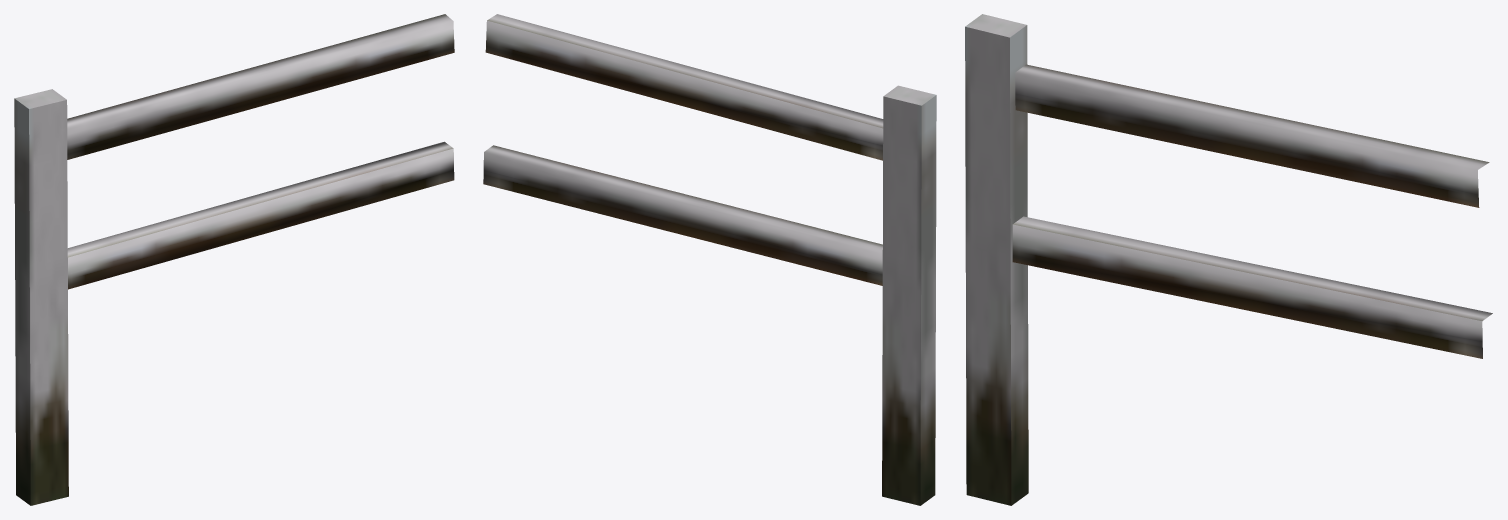
The model's file is general_obj_fence04.glb.
The picture shows the model from 3 angles, left to right: view 1: azimuth 30°, elevation 25°; view 2: azimuth 150°, elevation 25°; view 3: azimuth 330°, elevation 25°; orthographic projection. The views are drawn at different scales.
Parts seen in each view (by area): view 1: Sphere01; view 2: Sphere01; view 3: Sphere01.
Boxes of the visible parts, x1,y1,x2,y2 form: Sphere01: (14,14,454,505); Sphere01: (483,14,936,505); Sphere01: (965,14,1492,505).
Bounding box in the file's own units: 2.44 × 2.14 × 0.1635.
Materials: 1 (1 with a texture image).
